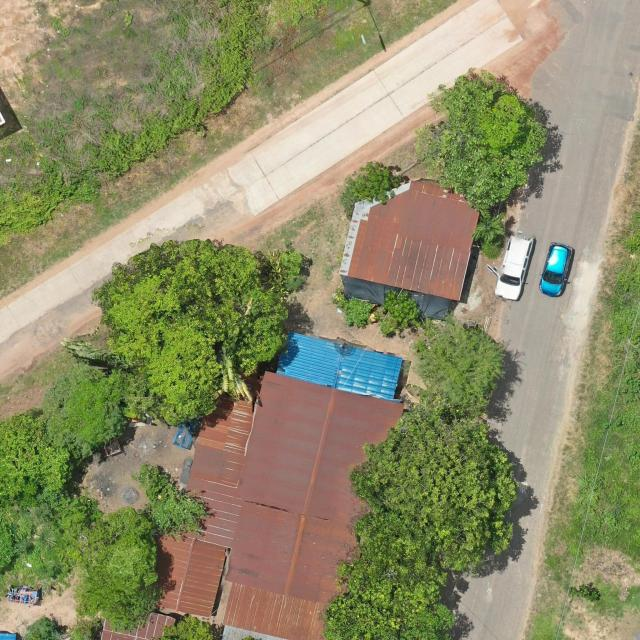tree: (90, 238, 292, 426), (343, 407, 518, 572), (414, 68, 551, 213), (75, 506, 168, 634), (321, 558, 458, 640), (42, 365, 131, 460), (413, 323, 510, 409), (0, 408, 73, 500), (138, 461, 211, 541), (340, 160, 401, 220), (377, 288, 421, 335), (163, 616, 217, 640), (470, 209, 509, 241), (23, 616, 59, 640), (69, 617, 102, 640)
